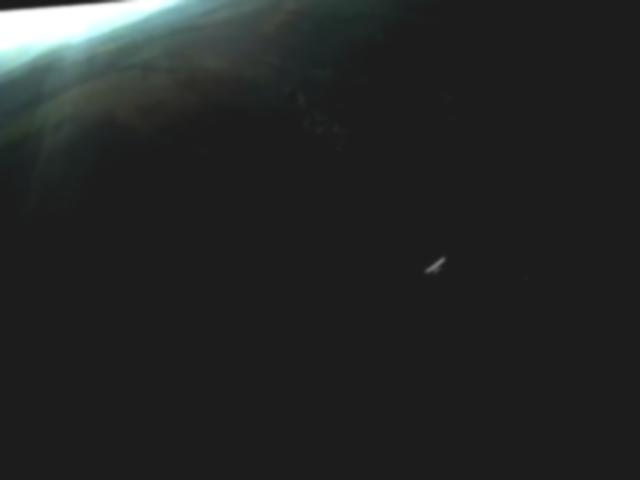iha: (426, 262, 447, 277)
